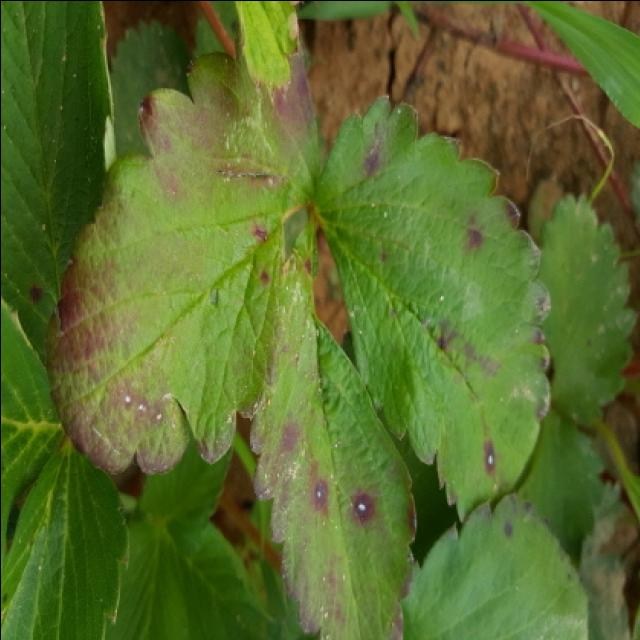Leaf Spot: (45, 31, 325, 477), (310, 94, 552, 526), (249, 215, 417, 640), (2, 2, 116, 367), (402, 490, 587, 640)
